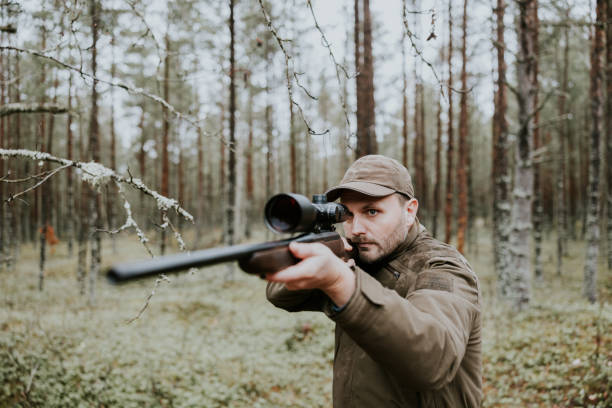gun: (103, 192, 346, 288)
